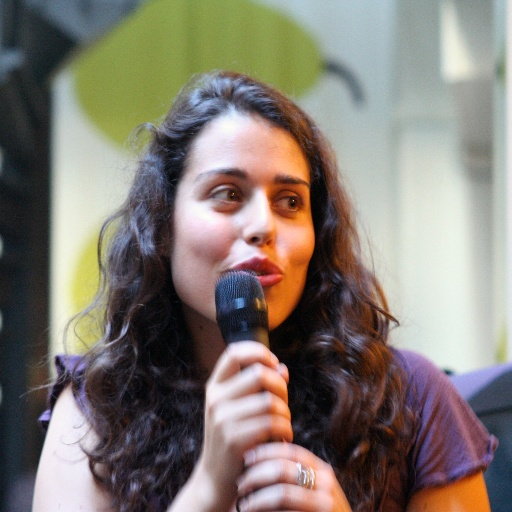hand: (187, 340, 304, 449), (231, 438, 354, 511)
